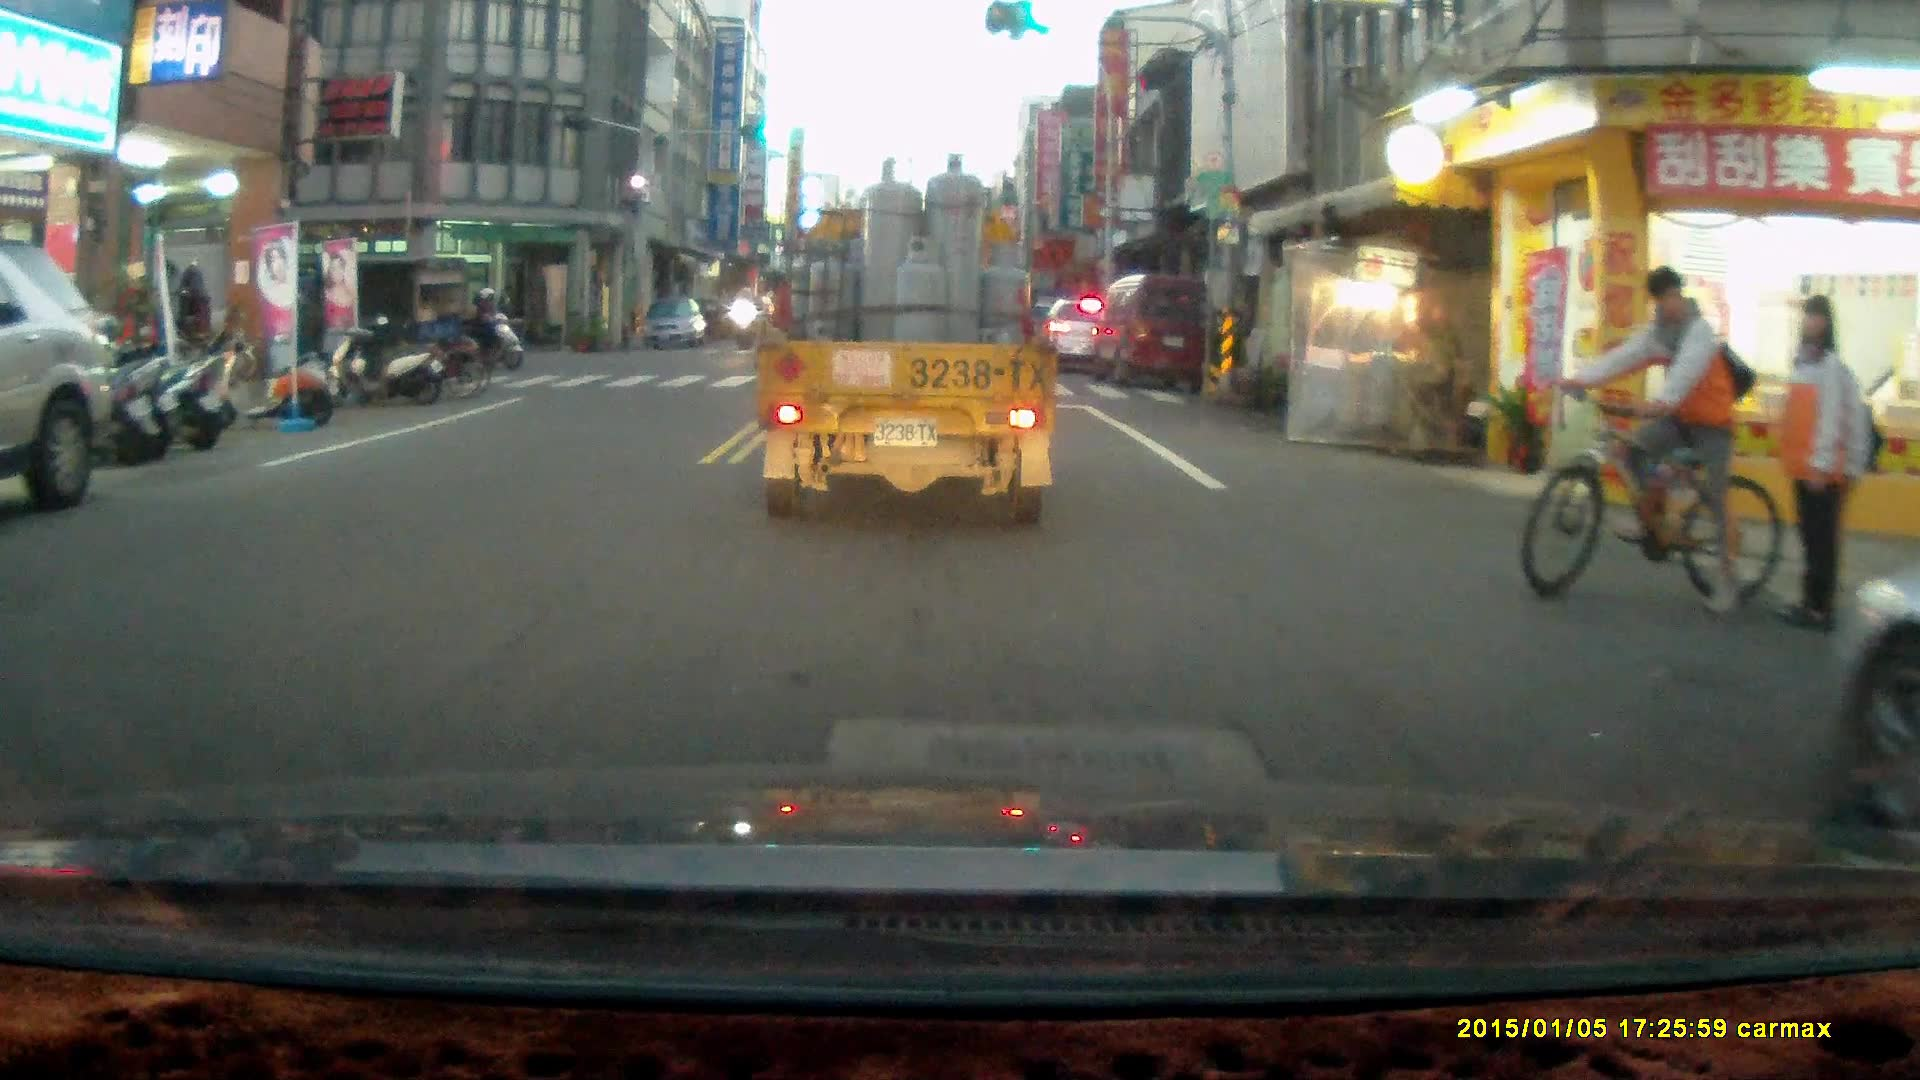pedestrian: (1768, 292, 1852, 632), (175, 264, 211, 375)
rider: (1523, 265, 1784, 620), (453, 283, 521, 372)
vehicle: (753, 161, 1045, 522), (1, 243, 118, 511), (277, 247, 477, 372), (1091, 272, 1216, 391), (1042, 295, 1115, 374), (641, 297, 710, 351)
